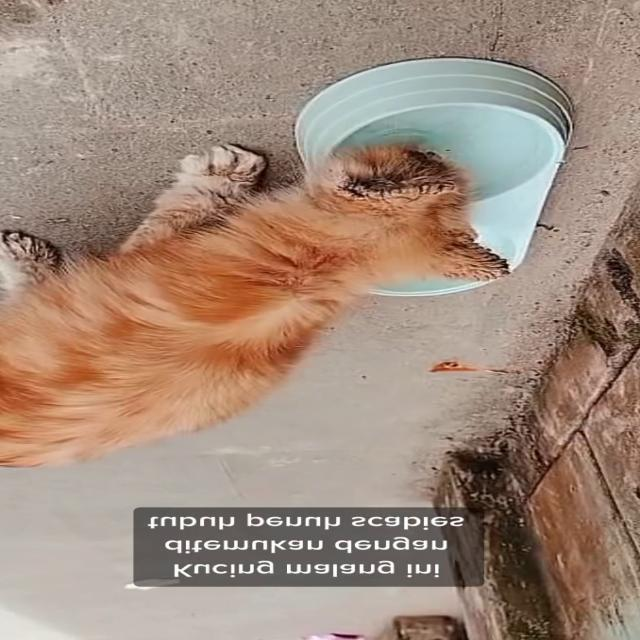ghe: (350, 149, 477, 226), (192, 153, 258, 248), (0, 226, 75, 296)
